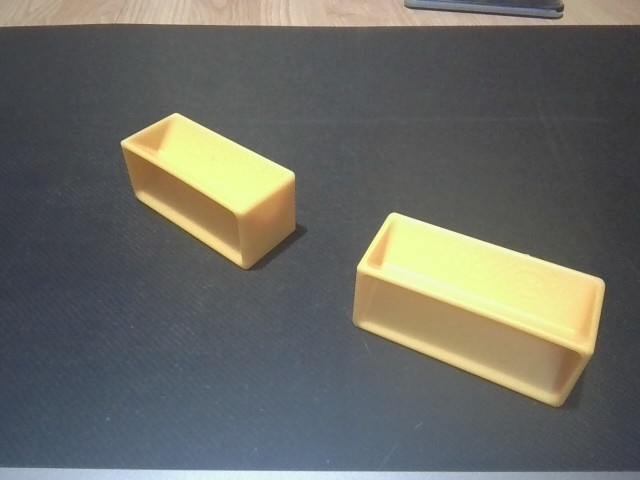YellowSample: (348, 209, 609, 414), (115, 107, 303, 276)
